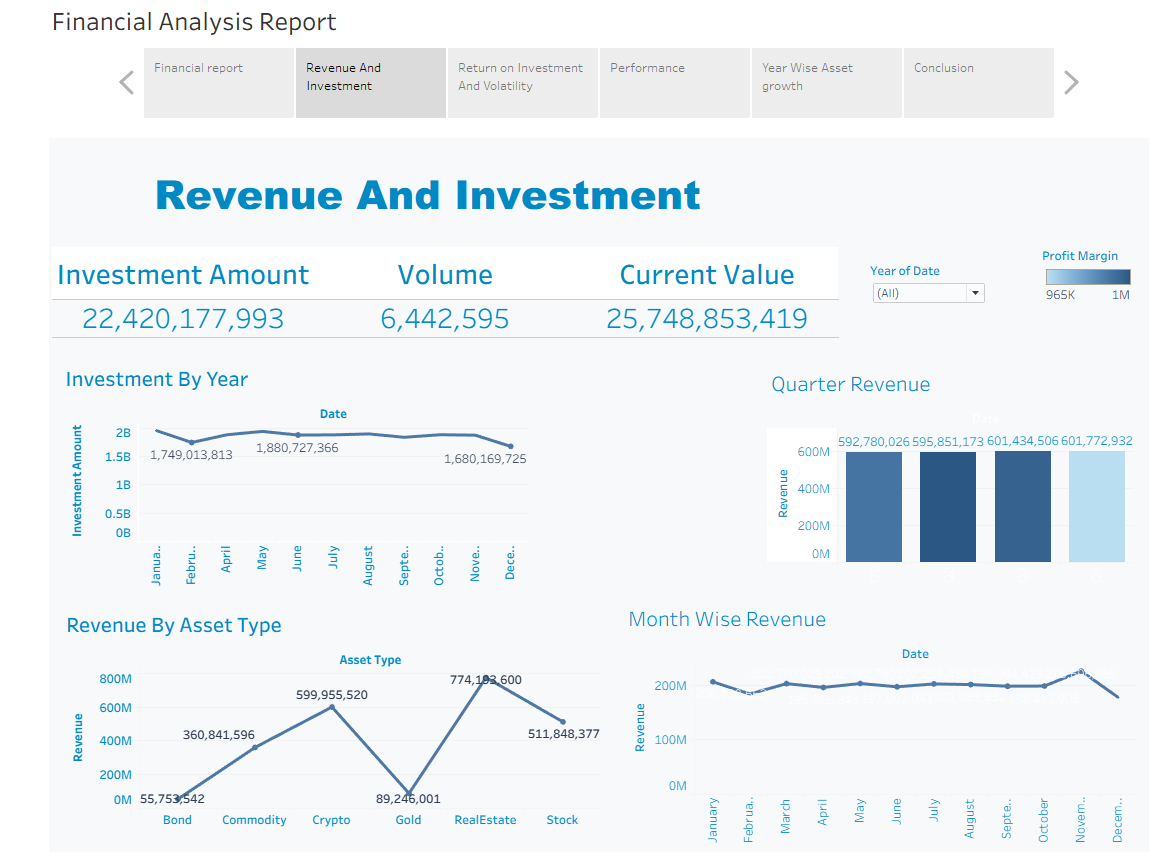

The dashboard page shown, as its layout file describes it:
{"tool":"tableau","page":{"name":"Dashboard 1","canvas":[1000,1000],"units":"permille","ordinal":0},"visuals":[{"type":"text","box":[15.8,25,657.6,105.4]},{"type":"worksheet","title":"Kpi","mark":"Automatic","box":[2.6,132.1,723.4,198.2]},{"type":"legend","title":"Quarter Revenue","param":"[federated.1rvt64d028b8dz11czbfh04hzu45].[sum:Profit_Margin:qk]","box":[902.4,152.9,84.8,88.7]},{"type":"filter","title":"Quarter Revenue","param":"[federated.1rvt64d028b8dz11czbfh04hzu45].[yr:Date:ok]","box":[746.3,173.2,107.1,94.6]},{"type":"worksheet","title":"Investment By Year","mark":"Automatic","rows":["Investment_Amount"],"cols":["Date"],"box":[10.9,311.6,424.9,319.7]},{"type":"worksheet","title":"Quarter Revenue","mark":"Bar","rows":["Revenue"],"cols":["Date"],"box":[652.7,318.6,333.3,332.6]},{"type":"worksheet","title":"Month Wise Revenue","mark":"Automatic","rows":["Revenue"],"cols":["Date"],"box":[523,646.4,465.4,343.1]},{"type":"worksheet","title":"Revenue By Asset Type","mark":"Line","rows":["Revenue"],"cols":["Asset_Type"],"box":[12.1,655.8,489.7,312.7]}]}

Visuals, with their boxes on the dashboard's canvas, which has no fixed pixel size, in thousandths of its width and height (x1, y1, x2, y2). These are canvas units, not pixel positions in the 1166x866 screenshot, which may show the page scaled, cropped or inside an application window:
text: crop(16, 25, 673, 130)
"Kpi" worksheet: crop(3, 132, 726, 330)
"Quarter Revenue" legend: crop(902, 153, 987, 242)
"Quarter Revenue" filter: crop(746, 173, 853, 268)
"Investment By Year" worksheet: crop(11, 312, 436, 631)
"Quarter Revenue" worksheet (Bar marks): crop(653, 319, 986, 651)
"Month Wise Revenue" worksheet: crop(523, 646, 988, 990)
"Revenue By Asset Type" worksheet (Line marks): crop(12, 656, 502, 968)
